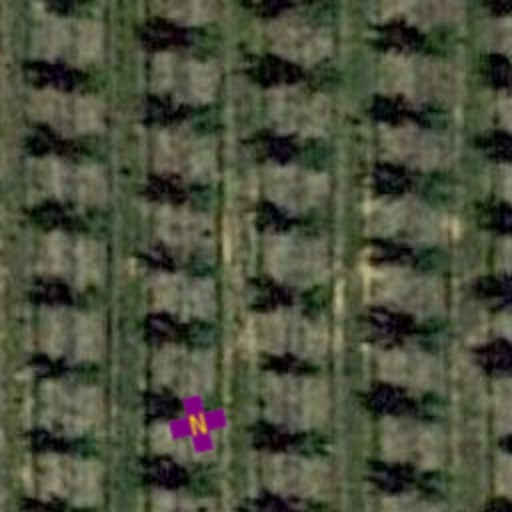cross: (162, 388, 234, 460)
